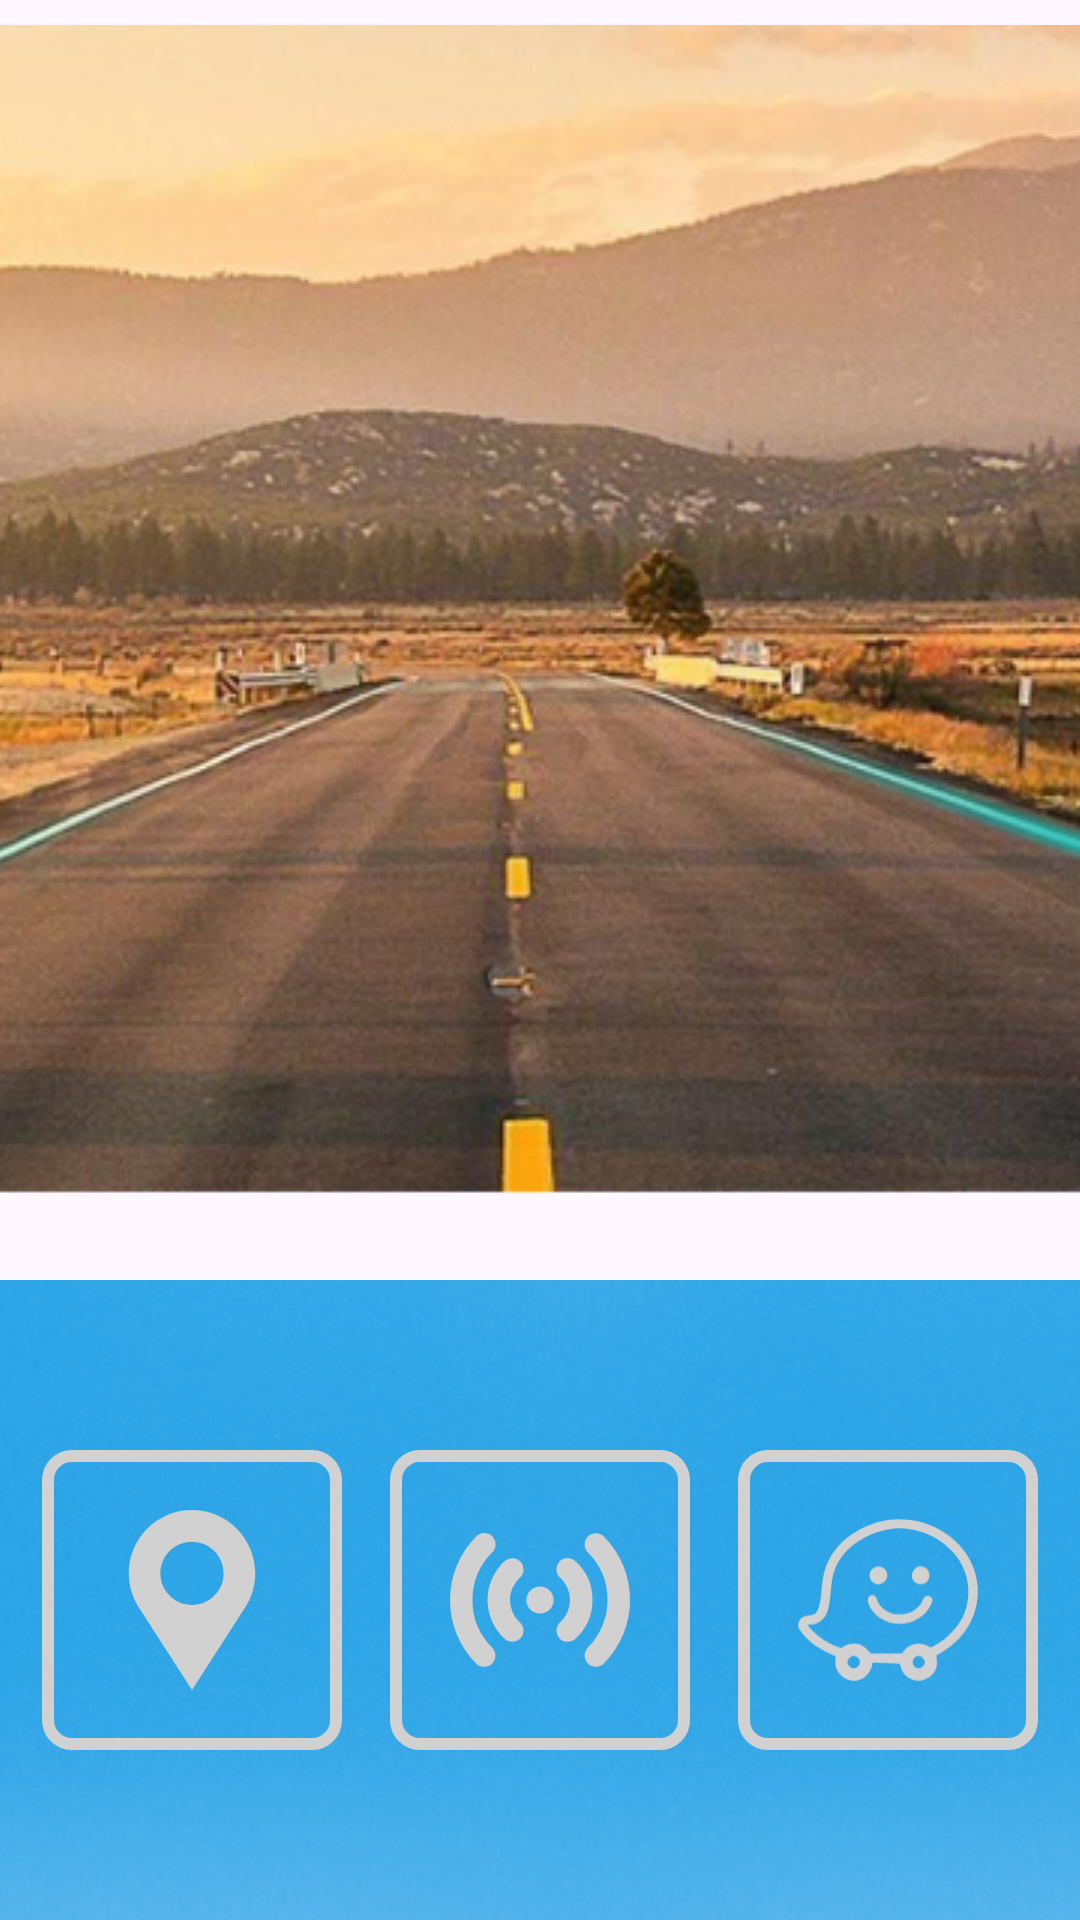

Screen size 1080w x 1920h. Icon name, then its center in pixels as (x=x, y=y):
nav: (x=192, y=1600)
radio: (x=540, y=1600)
